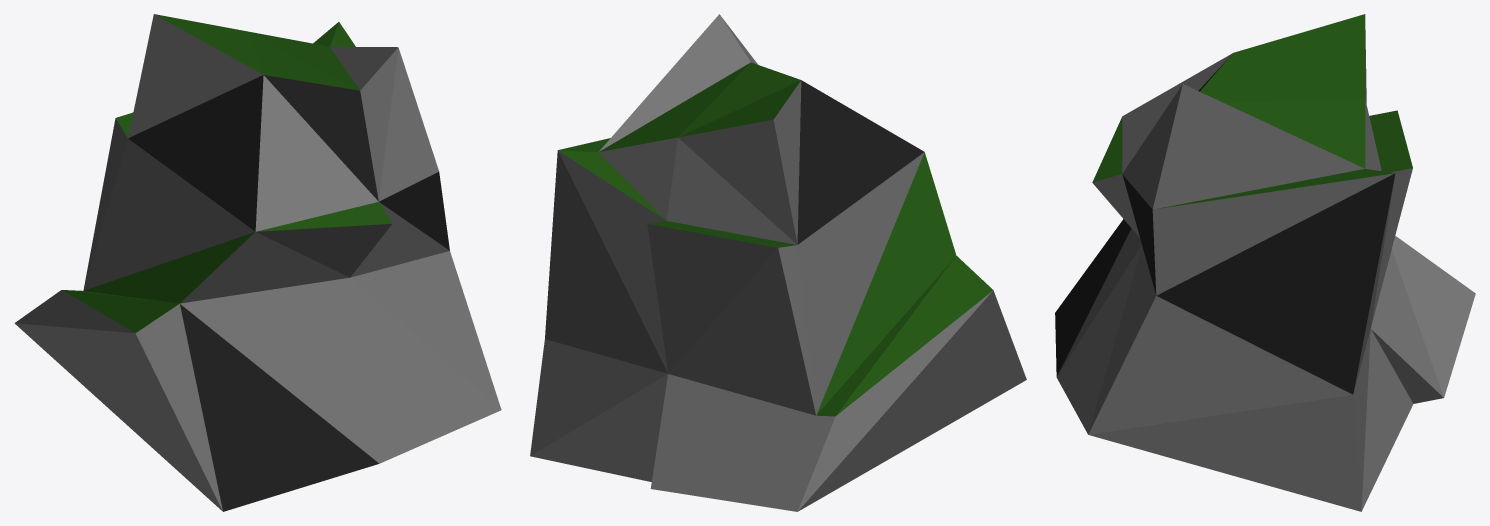
The model's file is Stone2_10.fbx.
3 views of the same model, side by side, from view 1: azimuth 30°, elevation 25°; view 2: azimuth 150°, elevation 25°; view 3: azimuth 270°, elevation 25° (orthographic). The views are drawn at different scales.
Visible parts, largest first — view 1: Stone2_10; view 2: Stone2_10; view 3: Stone2_10.
Boxes of the visible parts, left/top/right/bottom form: Stone2_10: left=14, top=14, right=501, bottom=511; Stone2_10: left=530, top=14, right=1026, bottom=511; Stone2_10: left=1055, top=14, right=1475, bottom=511.
Bounding box in the file's own units: 127 × 132 × 132.
